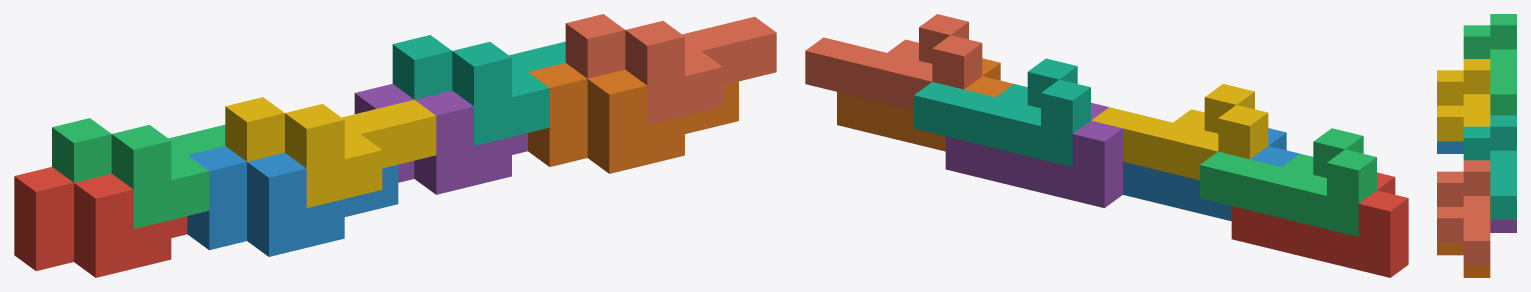
File: tiling.obj
3 renders of one model, left to right at view 1: azimuth 30°, elevation 25°; view 2: azimuth 150°, elevation 25°; view 3: azimuth 270°, elevation 25°, orthographic. The views are drawn at different scales.
Parts seen in each view (by area): view 1: copy_1_domain_4, copy_1_domain_8, copy_1_domain_1, copy_1_domain_2, copy_1_domain_6, copy_1_domain_3, copy_1_domain_7, copy_1_domain_5; view 2: copy_1_domain_3, copy_1_domain_7, copy_1_domain_8, copy_1_domain_4, copy_1_domain_1, copy_1_domain_5, copy_1_domain_6, copy_1_domain_2; view 3: copy_1_domain_8, copy_1_domain_4, copy_1_domain_7, copy_1_domain_3, copy_1_domain_6, copy_1_domain_2, copy_1_domain_5.
Part boxes in pixels (box(x1,y1,x2,y2)): copy_1_domain_4: box(225, 97, 436, 207); copy_1_domain_8: box(565, 14, 776, 124); copy_1_domain_1: box(14, 167, 187, 277); copy_1_domain_2: box(187, 146, 398, 256); copy_1_domain_6: box(528, 63, 738, 173); copy_1_domain_3: box(52, 118, 225, 228); copy_1_domain_7: box(392, 35, 565, 145); copy_1_domain_5: box(354, 84, 527, 194); copy_1_domain_3: box(1200, 128, 1376, 236); copy_1_domain_7: box(914, 58, 1090, 166); copy_1_domain_8: box(805, 14, 982, 110); copy_1_domain_4: box(1091, 84, 1268, 180); copy_1_domain_1: box(1231, 172, 1408, 277); copy_1_domain_5: box(945, 102, 1122, 207); copy_1_domain_6: box(837, 58, 1013, 151); copy_1_domain_2: box(1123, 128, 1299, 221); copy_1_domain_8: box(1437, 160, 1490, 264); copy_1_domain_4: box(1437, 59, 1490, 141); copy_1_domain_7: box(1463, 115, 1516, 219); copy_1_domain_3: box(1463, 14, 1516, 115); copy_1_domain_6: box(1437, 242, 1490, 277); copy_1_domain_2: box(1437, 141, 1463, 153); copy_1_domain_5: box(1490, 220, 1516, 232).
Bounding box in the file's own units: 19 × 3 × 3.
